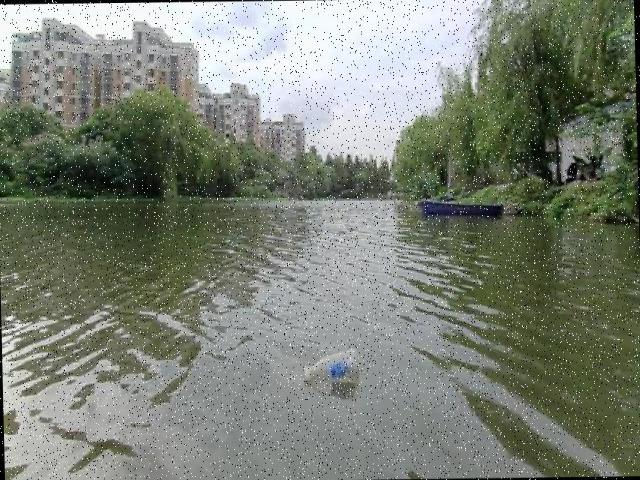Bottle: (298, 342, 367, 388)
